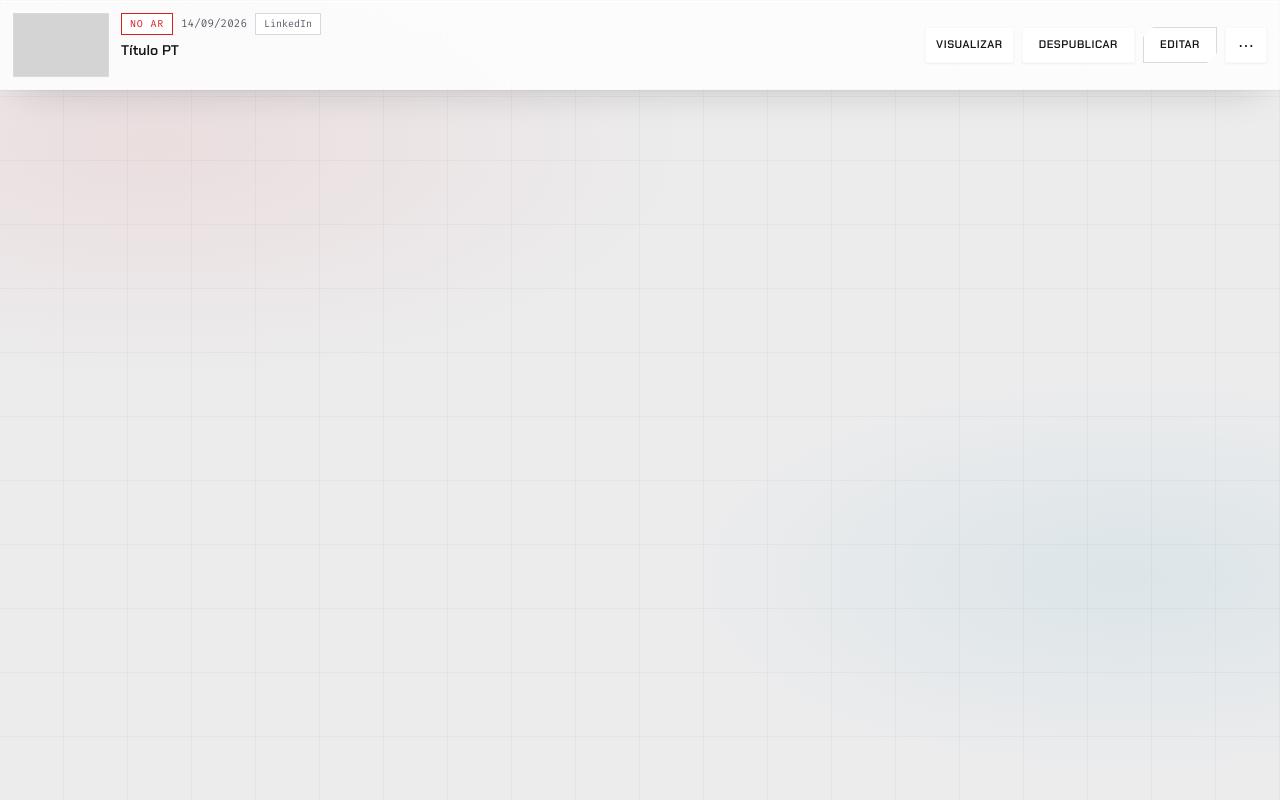
Test case: "publicar no LinkedIn" no menu › vale mesmo com o post fora da fila automática — o clique é a decisão
This screenshot has width=1280, height=800.
Click the button named "mais ações" at coordinates (1246, 45), box [1225, 27, 1267, 63]
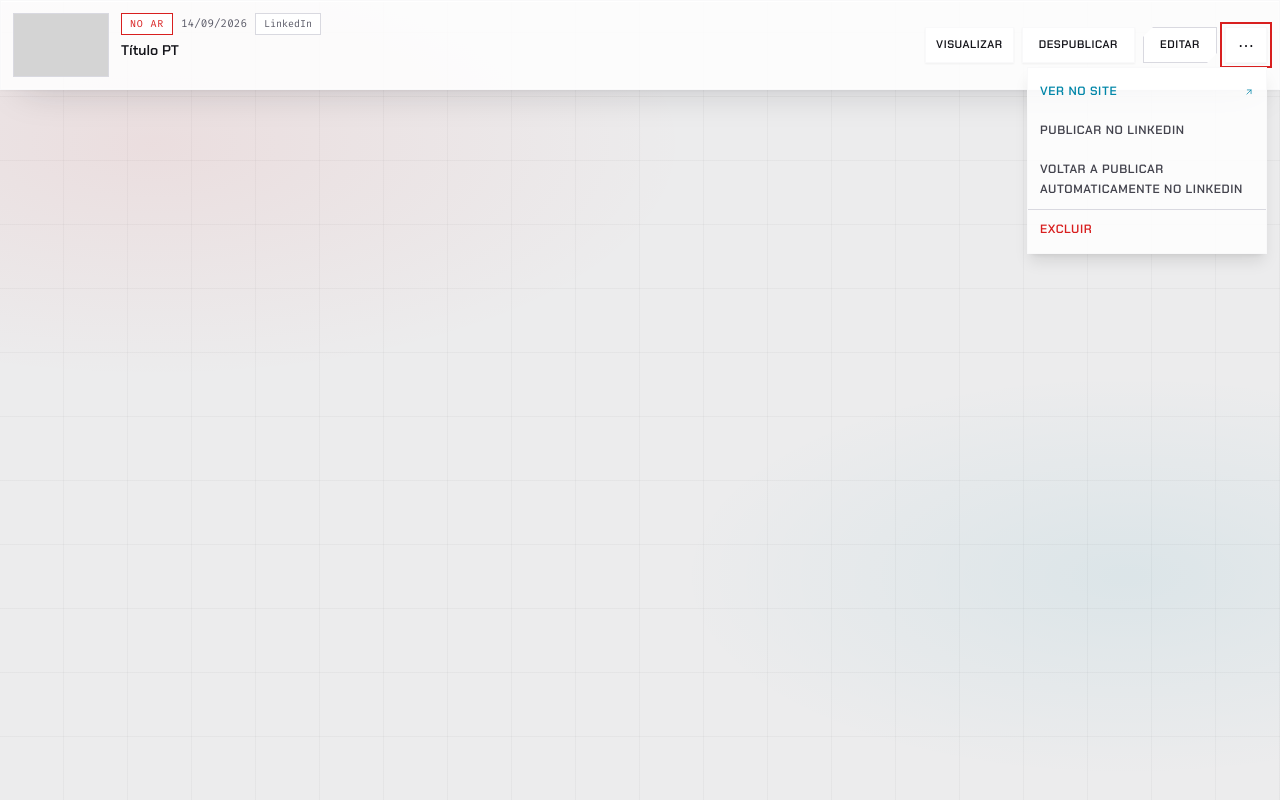
Expected: the menu item "publicar no LinkedIn" is shown, [1028, 111, 1266, 150]
